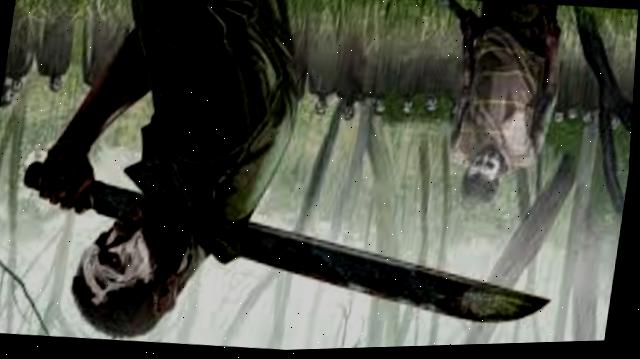long knife: (0, 139, 574, 346)
